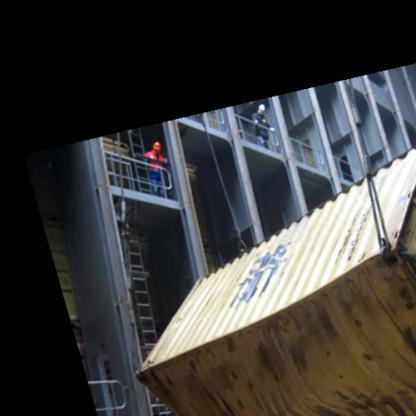Damage: (199, 297, 341, 377)
